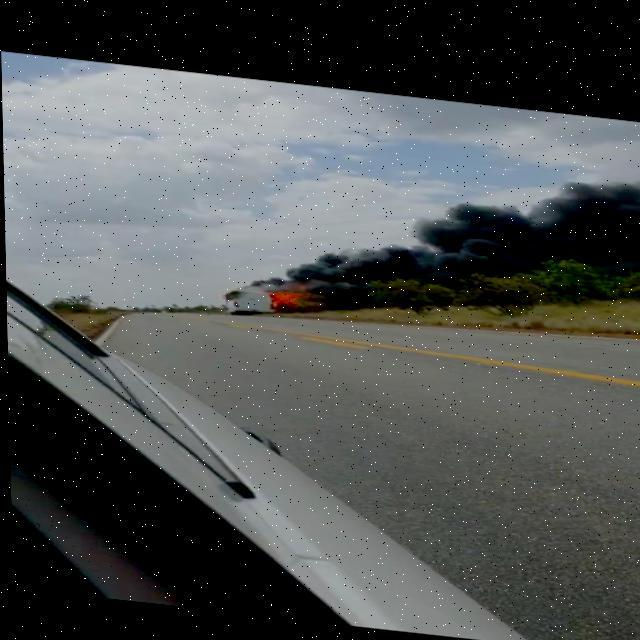Fire: (264, 284, 300, 302)
